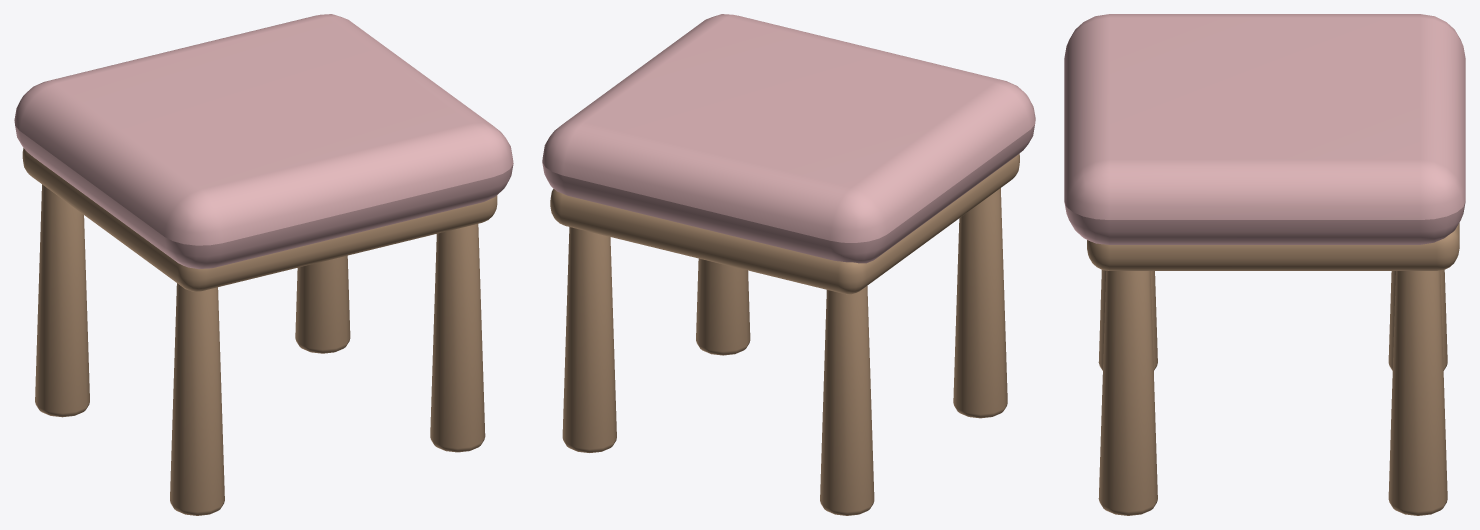
Rendered from chair_seat.glb.
3 renders of one model, left to right at view 1: azimuth 30°, elevation 25°; view 2: azimuth 150°, elevation 25°; view 3: azimuth 270°, elevation 25°, orthographic. The views are drawn at different scales.
Parts seen in each view (by area): view 1: Chair upholstered seat, Chair oak leg, Chair oak leg.002, Chair oak leg.001, Wood seat support, Chair oak leg.003; view 2: Chair upholstered seat, Wood seat support, Chair oak leg.001, Chair oak leg.003, Chair oak leg, Chair oak leg.002; view 3: Chair upholstered seat, Chair oak leg.003, Chair oak leg.002, Wood seat support, Chair oak leg.001, Chair oak leg.
Part boxes in pixels (bbox=[...]): Chair upholstered seat: bbox=[14, 14, 513, 269]; Chair oak leg: bbox=[170, 283, 224, 515]; Chair oak leg.002: bbox=[430, 224, 485, 452]; Chair oak leg.001: bbox=[35, 184, 89, 417]; Wood seat support: bbox=[22, 148, 497, 291]; Chair oak leg.003: bbox=[295, 255, 350, 353]; Chair upholstered seat: bbox=[542, 14, 1035, 263]; Wood seat support: bbox=[550, 153, 1019, 294]; Chair oak leg.001: bbox=[820, 286, 874, 515]; Chair oak leg.003: bbox=[562, 227, 616, 452]; Chair oak leg: bbox=[953, 188, 1007, 418]; Chair oak leg.002: bbox=[696, 258, 750, 355]; Chair upholstered seat: bbox=[1064, 14, 1465, 244]; Chair oak leg.003: bbox=[1388, 270, 1447, 515]; Chair oak leg.002: bbox=[1098, 270, 1157, 515]; Wood seat support: bbox=[1087, 223, 1459, 270]; Chair oak leg.001: bbox=[1388, 270, 1447, 370]; Chair oak leg: bbox=[1098, 270, 1157, 370].
Bounding box in the file's own units: 1.03 × 0.93 × 0.97.
